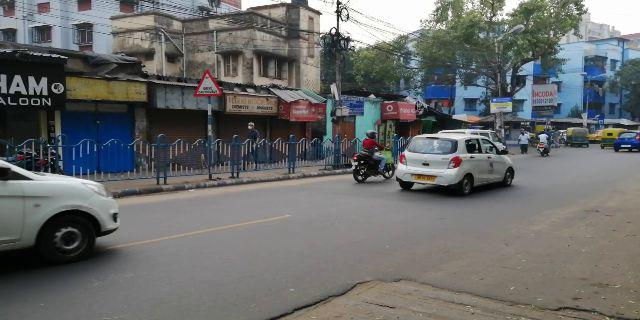Car: (1, 151, 121, 259), (405, 135, 518, 196)
Motorbike: (349, 132, 394, 184)
